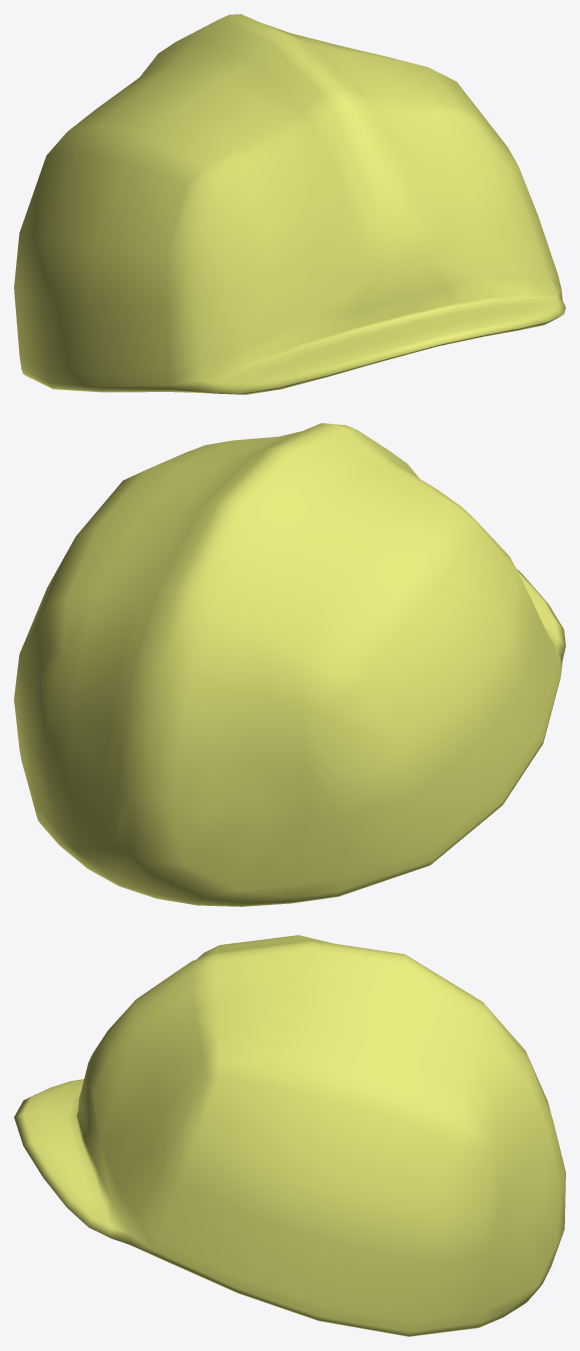
The model's file is Construction Hat.fbx.
3 views of the same model, one above another, from view 1: azimuth 30°, elevation 25°; view 2: azimuth 150°, elevation 25°; view 3: azimuth 270°, elevation 25° (orthographic). The views are drawn at different scales.
Visible parts, largest first — view 1: polySurface378_Original; view 2: polySurface378_Original; view 3: polySurface378_Original.
Boxes of the visible parts, left/top/right/bottom form: polySurface378_Original: left=14, top=14, right=565, bottom=394; polySurface378_Original: left=14, top=423, right=565, bottom=906; polySurface378_Original: left=14, top=935, right=565, bottom=1336.
Size of the model in its own units: 0.0768 by 0.0583 by 0.0881.
